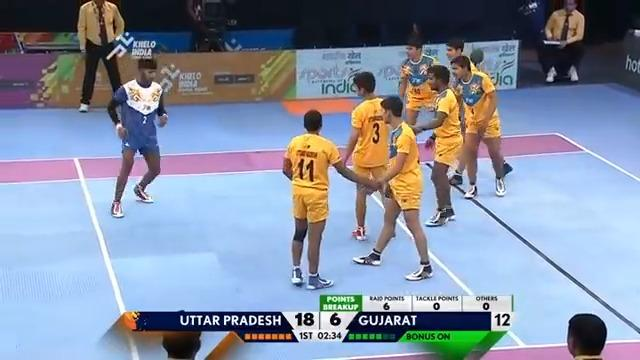Player: (281, 108, 377, 290), (351, 95, 433, 281), (447, 54, 512, 199), (341, 71, 396, 241), (410, 64, 465, 227), (76, 0, 125, 112), (397, 35, 438, 127)
Raider: (107, 56, 169, 218)
referee: (542, 0, 585, 83), (186, 0, 229, 52)
